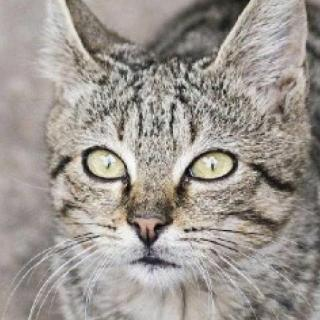cat: (42, 0, 315, 299)
nose: (124, 188, 181, 250)
